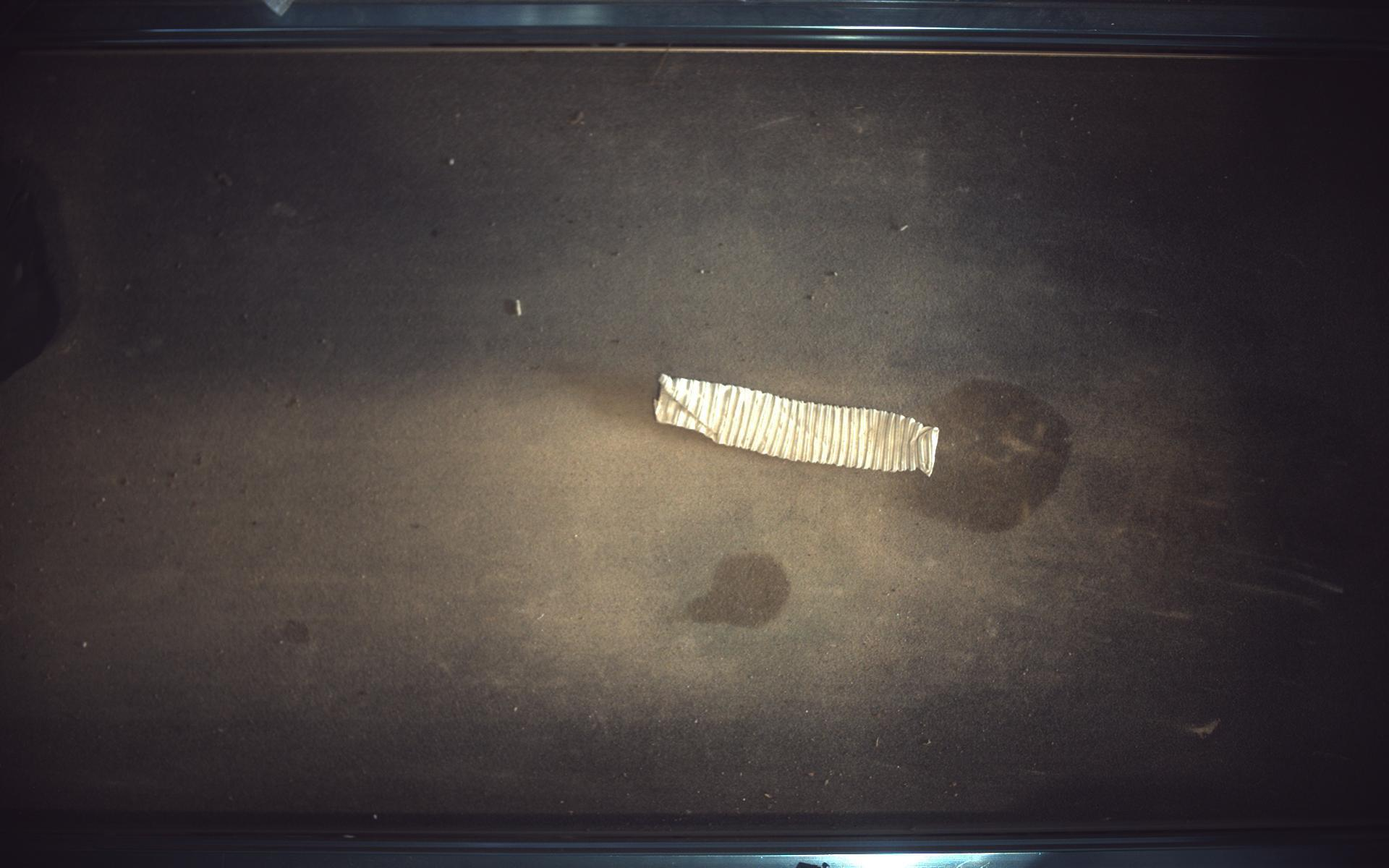pipes: (656, 374, 941, 476)
